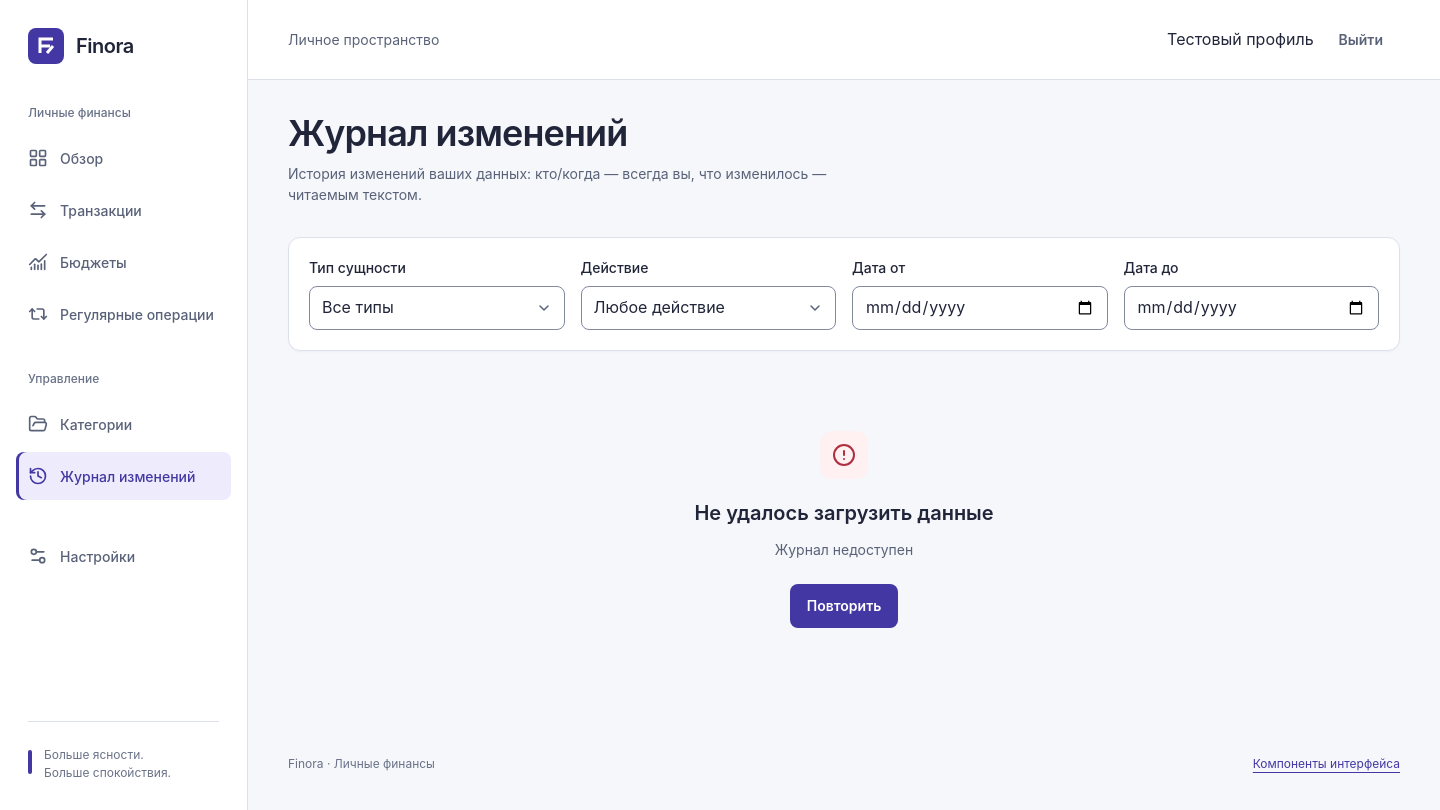
Test: Журнал изменений: ошибка списка → retry
Expected: the text "Журнал недоступен" is shown, x1=775 y1=539 x2=913 y2=560
Click the button "Повторить".
click(844, 606)  # box x1=790 y1=584 x2=898 y2=628
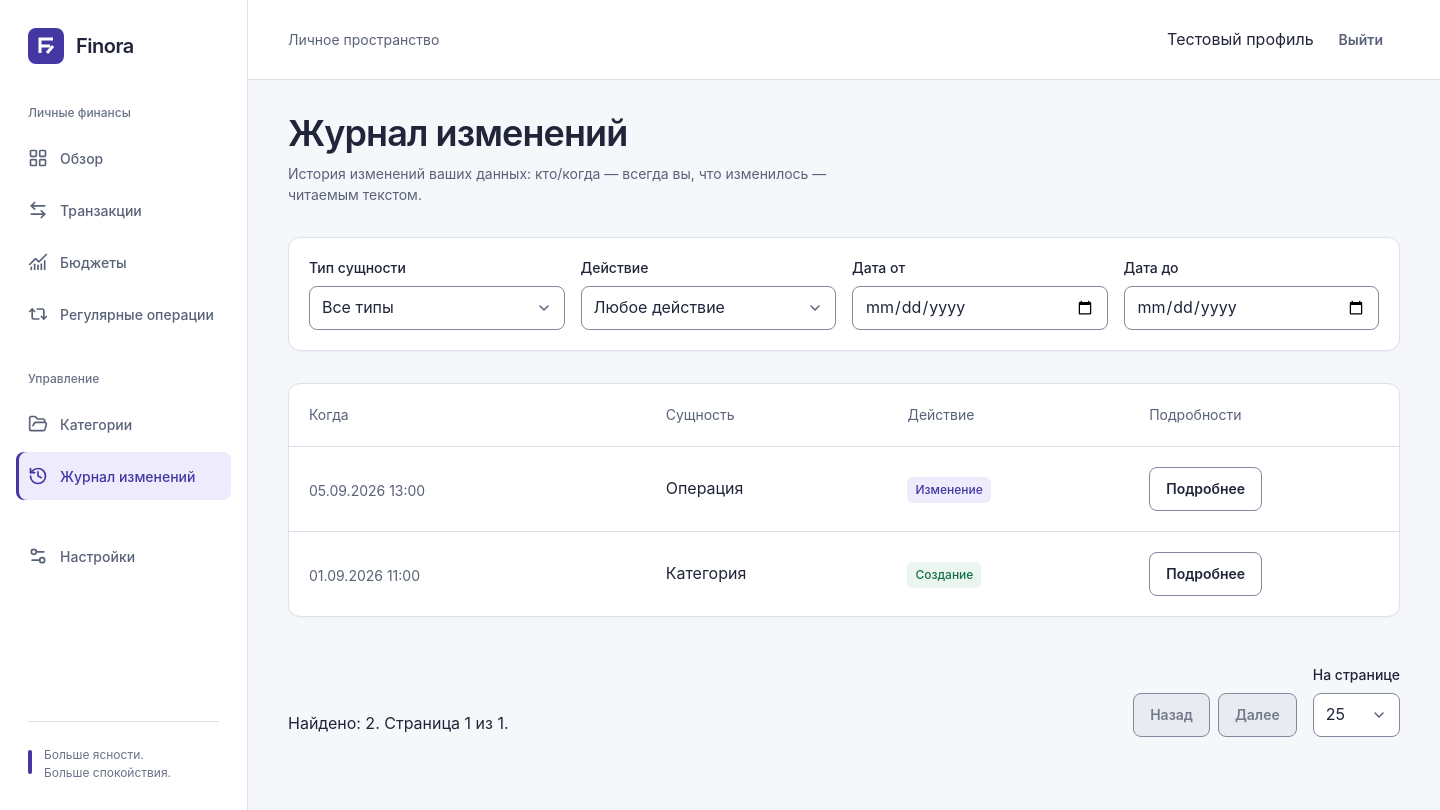
Expected: the text "Категория" is shown, x1=666 y1=563 x2=746 y2=583
